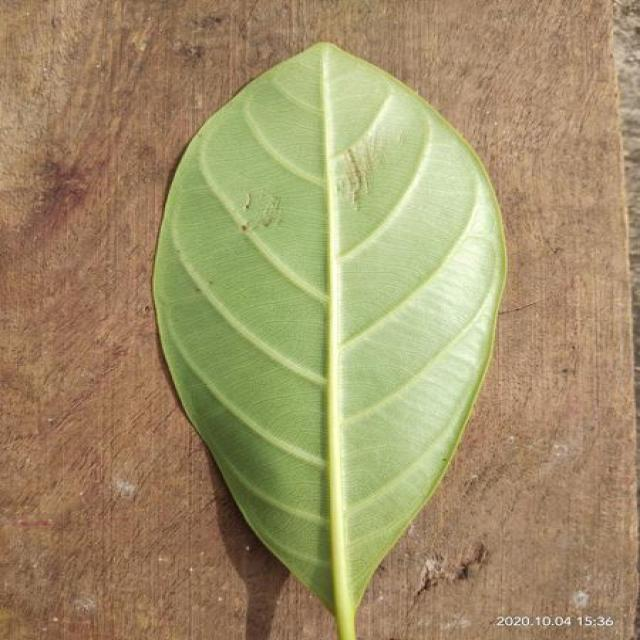leaf: (149, 40, 508, 639)
